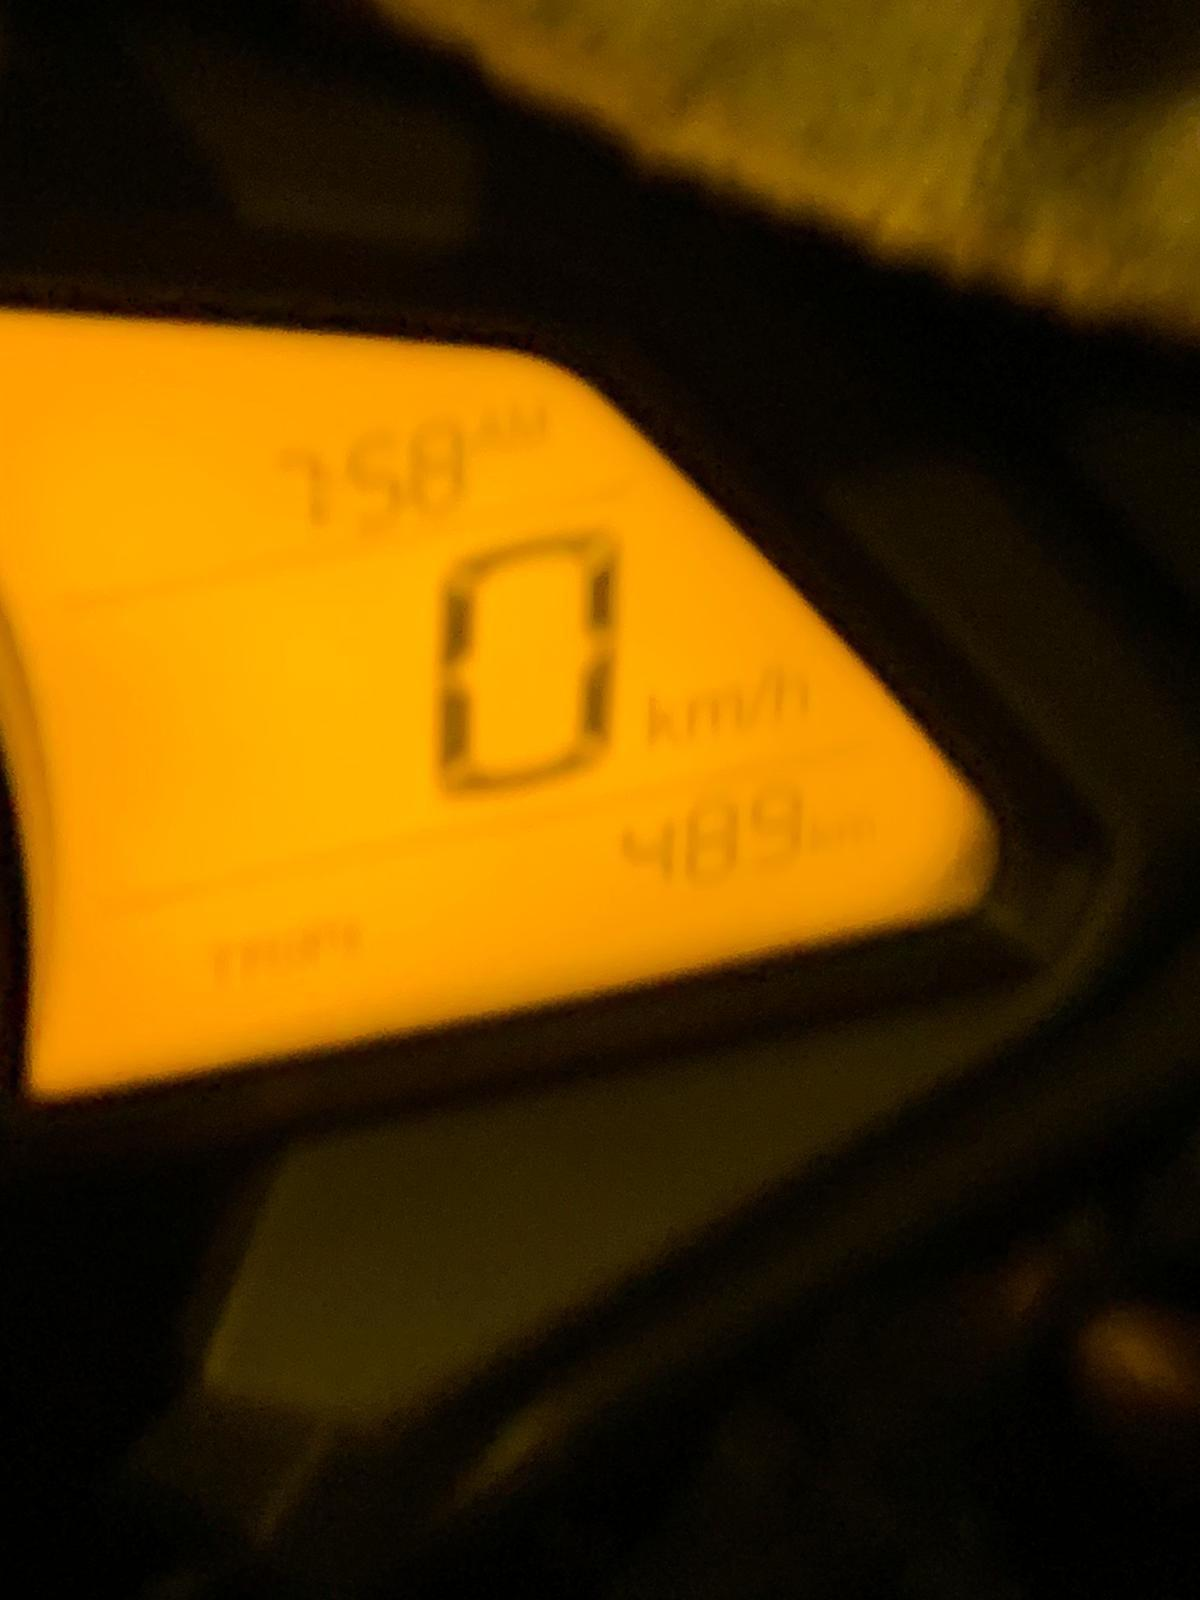0: (431, 532, 629, 794)
4: (614, 815, 679, 897)
5: (349, 431, 401, 534)
7: (270, 440, 337, 539)
8: (407, 417, 465, 514), (684, 795, 739, 893)
9: (747, 779, 800, 876)
X: (683, 684, 742, 745), (642, 682, 682, 753), (776, 663, 818, 731), (742, 663, 775, 740), (505, 396, 552, 443), (468, 403, 508, 447)
odometer: (0, 299, 1007, 1131)
